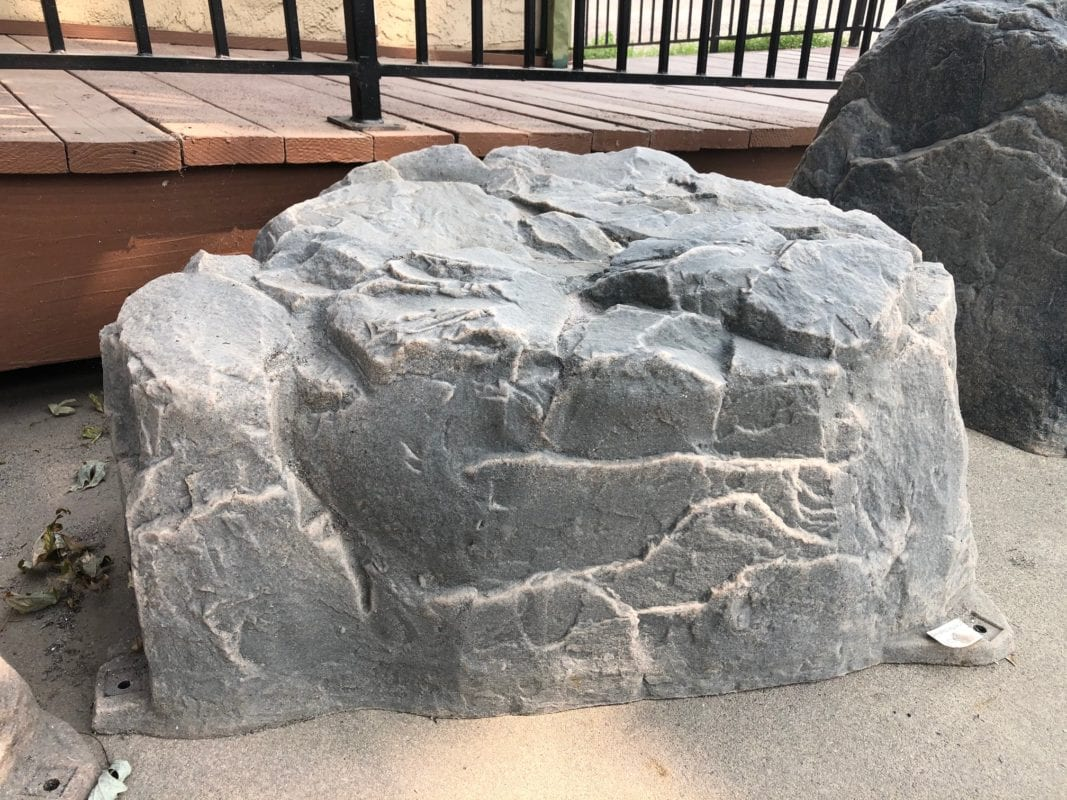rock: (82, 145, 1020, 743), (795, 4, 1062, 459)
